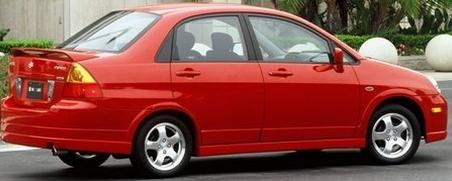back_view: (0, 53, 113, 154)
backlight: (60, 60, 115, 101)
side_glass: (171, 9, 347, 64)
